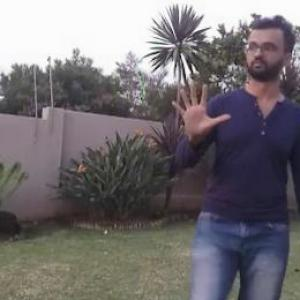follow_hand: (168, 75, 231, 138)
